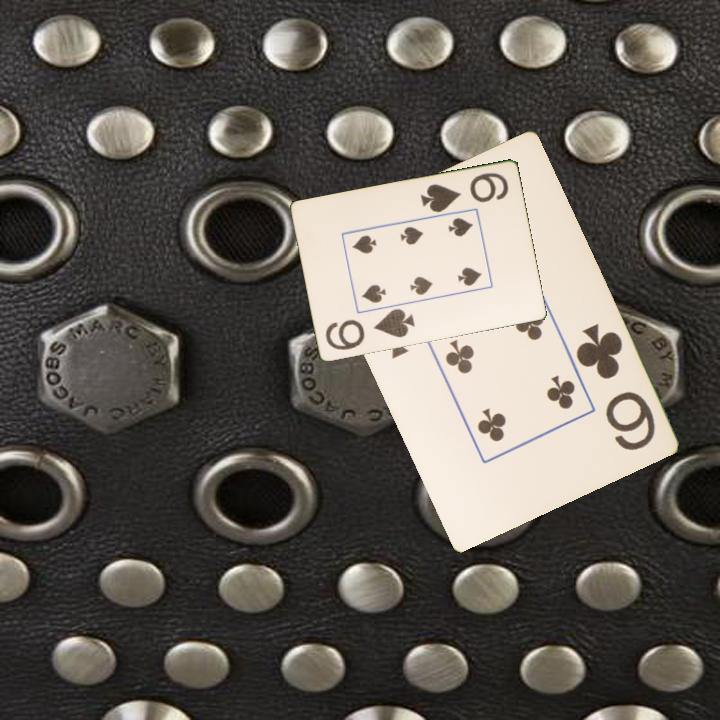6c: (571, 319, 658, 454)
6s: (322, 305, 417, 353), (417, 169, 511, 216)
